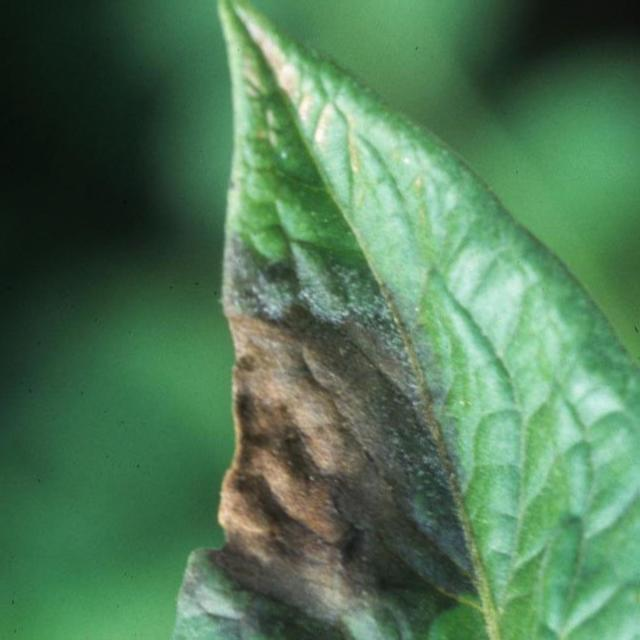Tomato leaf late blight: (94, 0, 640, 640)
